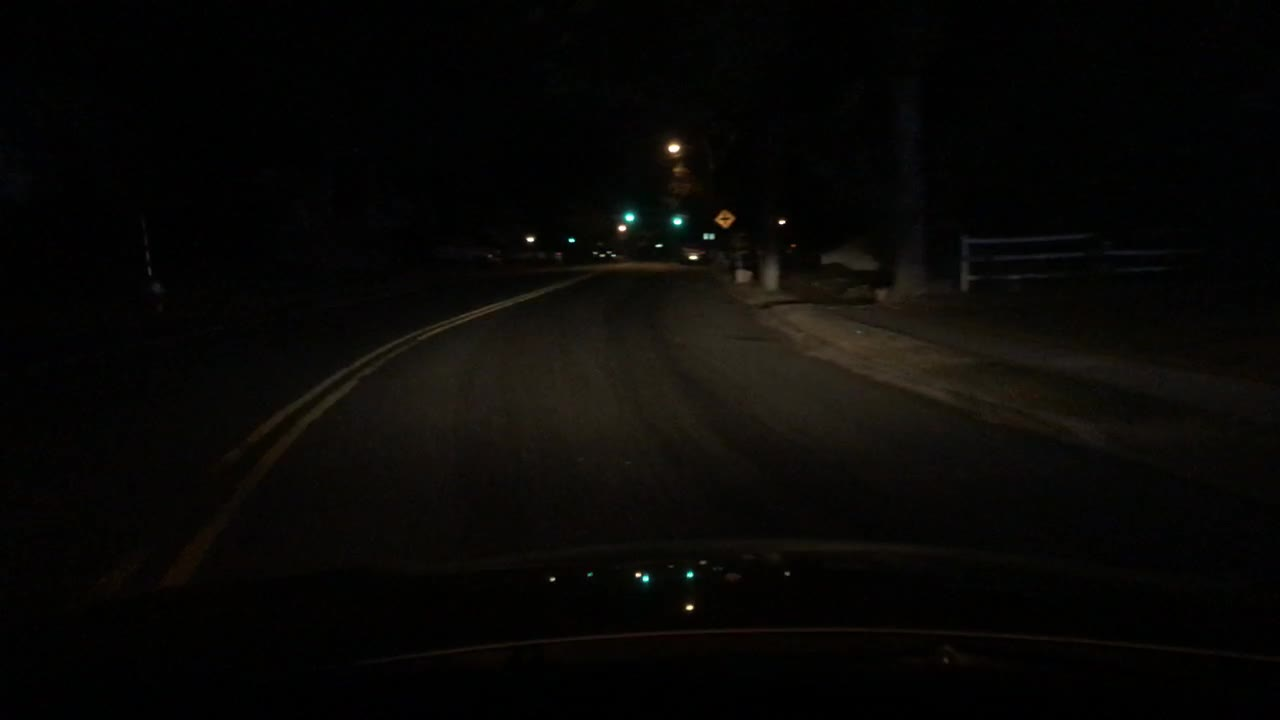car: (814, 230, 886, 283), (433, 237, 503, 271), (583, 239, 620, 265), (526, 243, 565, 267), (675, 246, 708, 267)
traffic light: (621, 209, 634, 224), (670, 215, 683, 227)
traffic sign: (712, 206, 736, 229)
